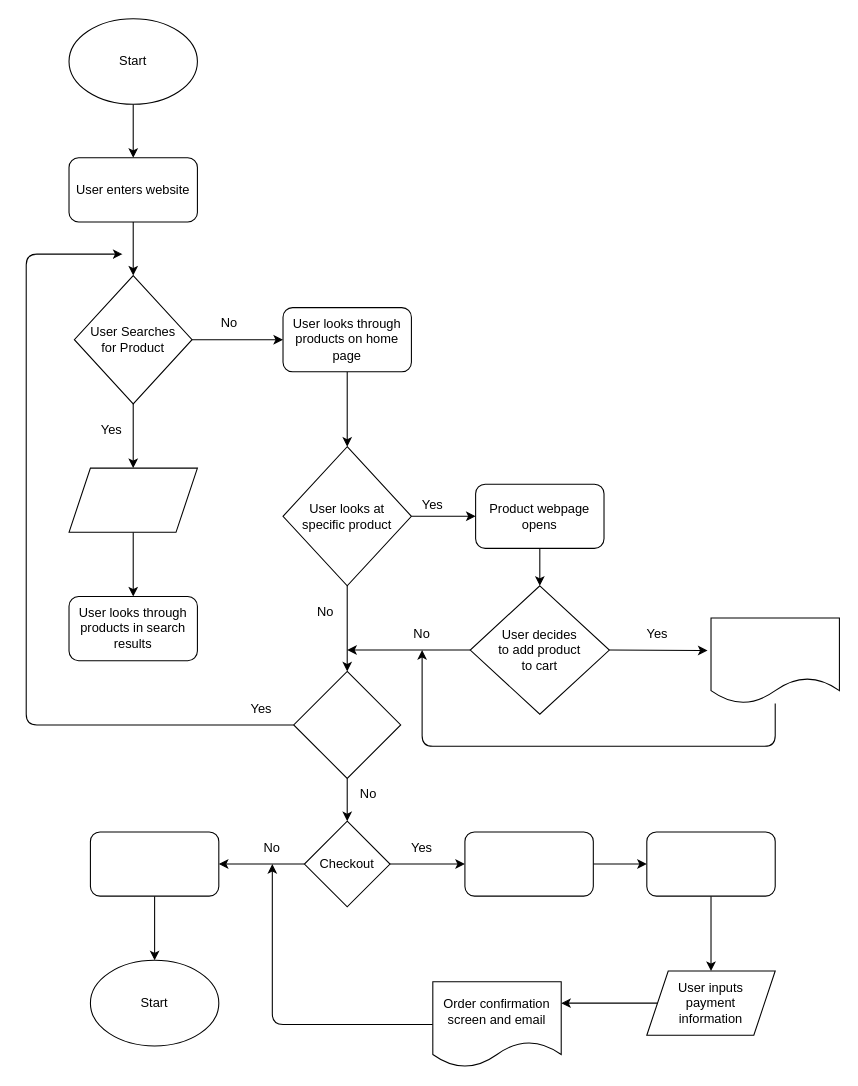
This 858x1086 diagram has some shape labels left out. The shapes that lost their labels are listed below. From the top down, each one's centre as x and y in pixels, then its label:
At point 132,499: "User provides search input".
At point 774,660: "Product Added to cart confirmation".
At point 347,724: "User continues shopping".
At point 154,863: "User Leaves Website".
At point 528,863: "User goes to View Cart Screen".
At point 710,863: "User goes to View Payment screen".
